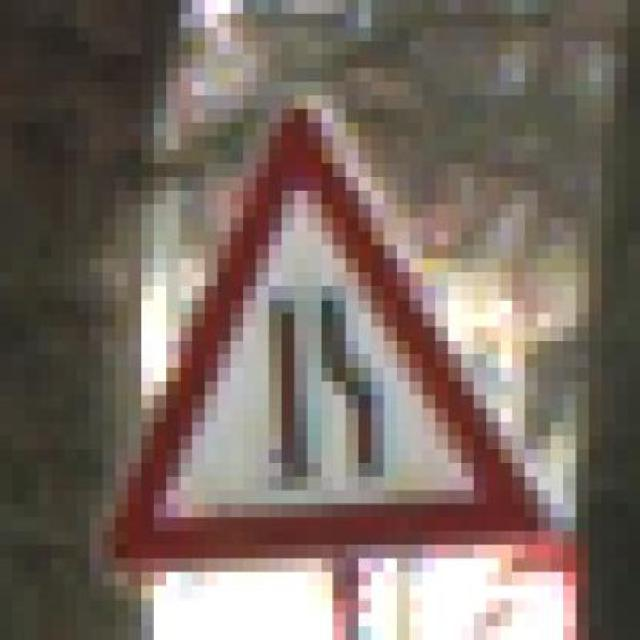-Road narrows on right: (90, 82, 588, 586)
